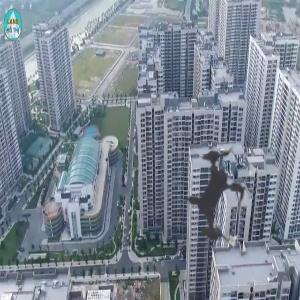drone: (139, 113, 298, 272)
